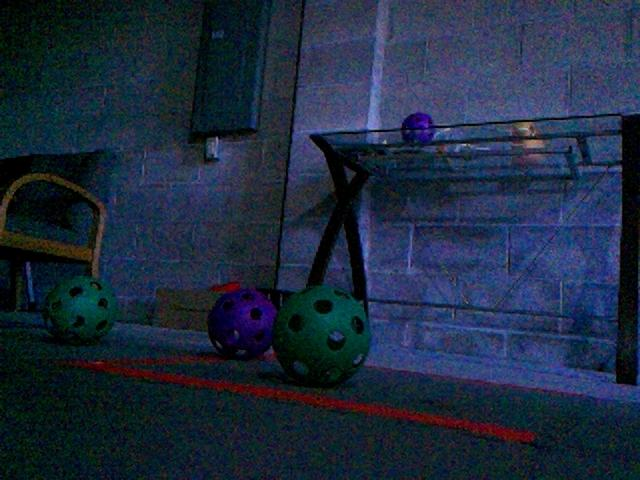Green: (270, 285, 374, 386), (42, 275, 119, 343)
Purple: (206, 287, 280, 361), (401, 111, 436, 144)
